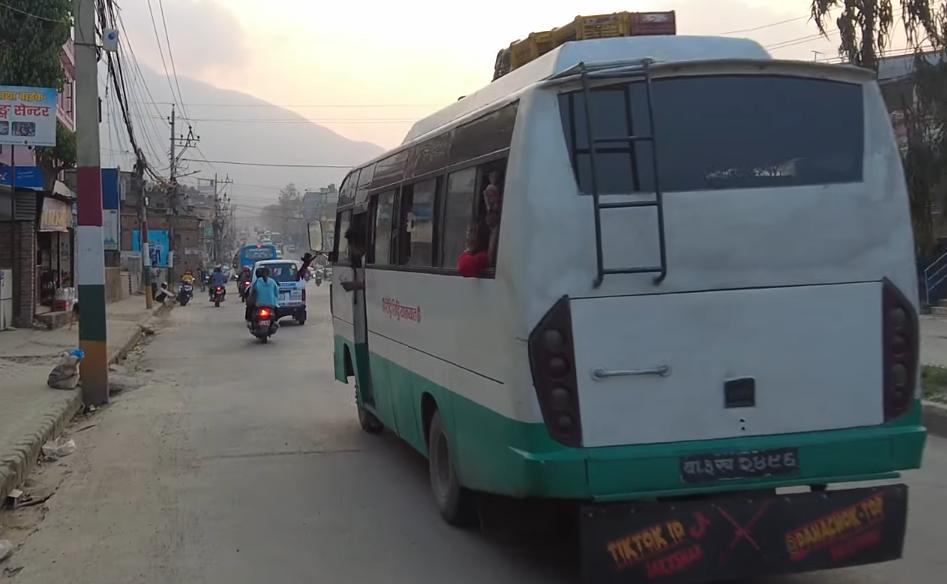bus: (331, 19, 930, 523)
